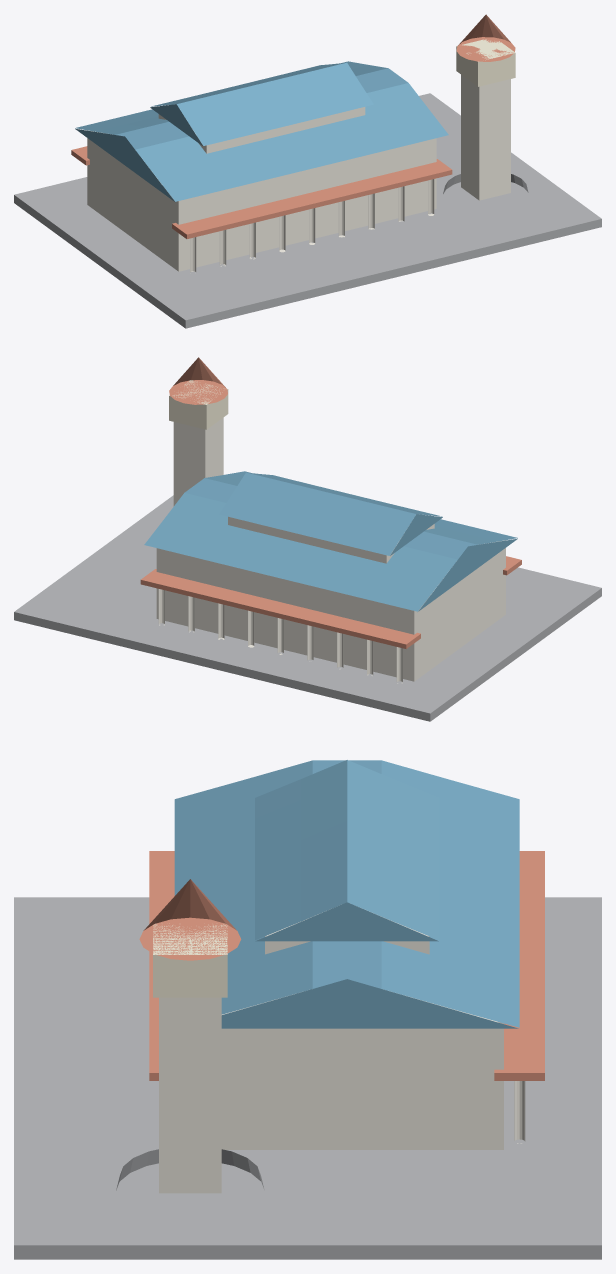
Rendered from lm_89_cho_trung_tam_lien_nghia_duc_trong_highway_plaza.glb.
The picture shows the model from 3 angles, top to bottom: view 1: azimuth 30°, elevation 25°; view 2: azimuth 150°, elevation 25°; view 3: azimuth 270°, elevation 25°; orthographic projection. The views are drawn at different scales.
Parts seen in each view (by area): view 1: lm_89_cho_trung_tam_lien_nghia_duc_trong_highway_plaza; view 2: lm_89_cho_trung_tam_lien_nghia_duc_trong_highway_plaza; view 3: lm_89_cho_trung_tam_lien_nghia_duc_trong_highway_plaza.
Boxes of the visible parts, x1,y1,x2,y2 form: lm_89_cho_trung_tam_lien_nghia_duc_trong_highway_plaza: [14, 14, 601, 328]; lm_89_cho_trung_tam_lien_nghia_duc_trong_highway_plaza: [14, 357, 601, 721]; lm_89_cho_trung_tam_lien_nghia_duc_trong_highway_plaza: [14, 760, 601, 1259].
Bounding box in the file's own units: 42 × 18.4 × 30.
